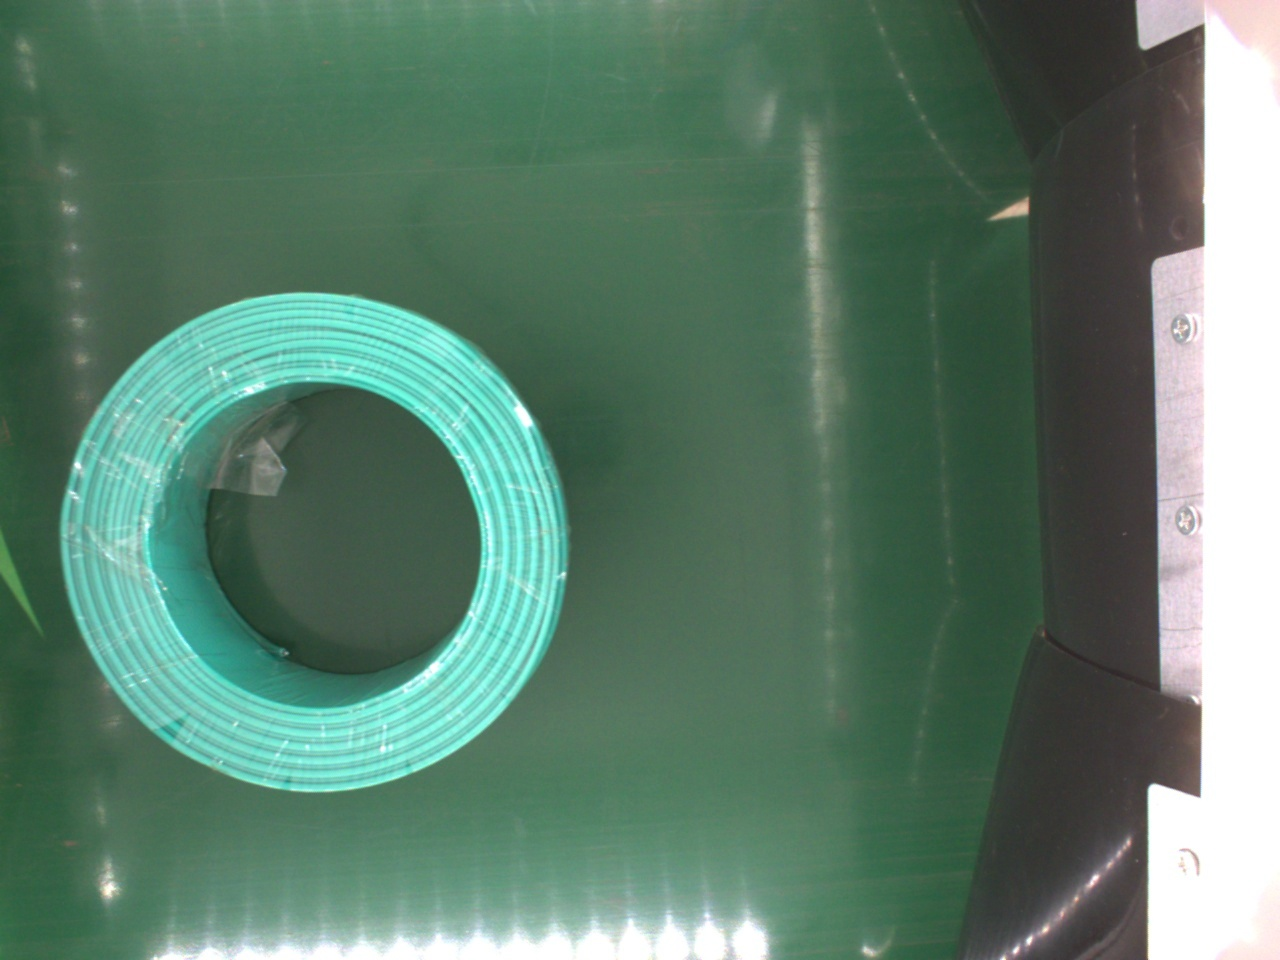green: (61, 290, 565, 794)
